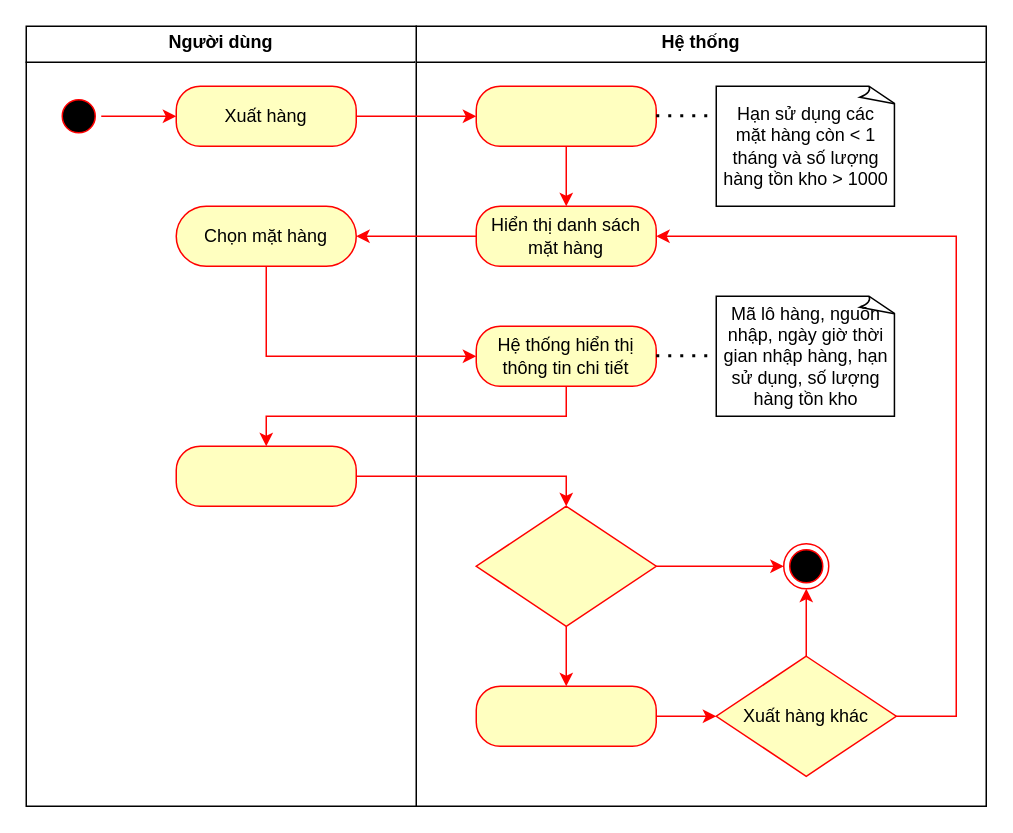
Image size: 1013x833. Some labels were removed from this diagram. Each missing label, with the centre of its shape:
"Cập nhật thông tin mới vào CSDL" belongs at [565,715].
"Kiểm tra các mặt hàng trong CSDL" belongs at [565,115].
"Nhập số lượng hàng tồn kho muốn xuất" belongs at [265,475].
"Xác nhận xuất hàng" belongs at [565,565].
